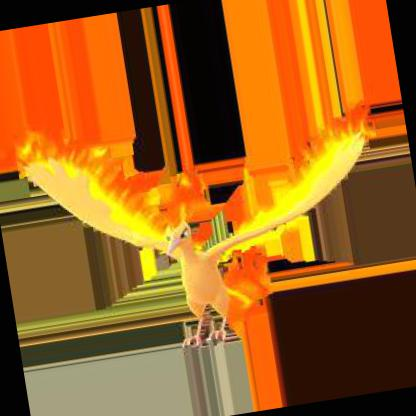Lavados: (0, 61, 415, 415)
